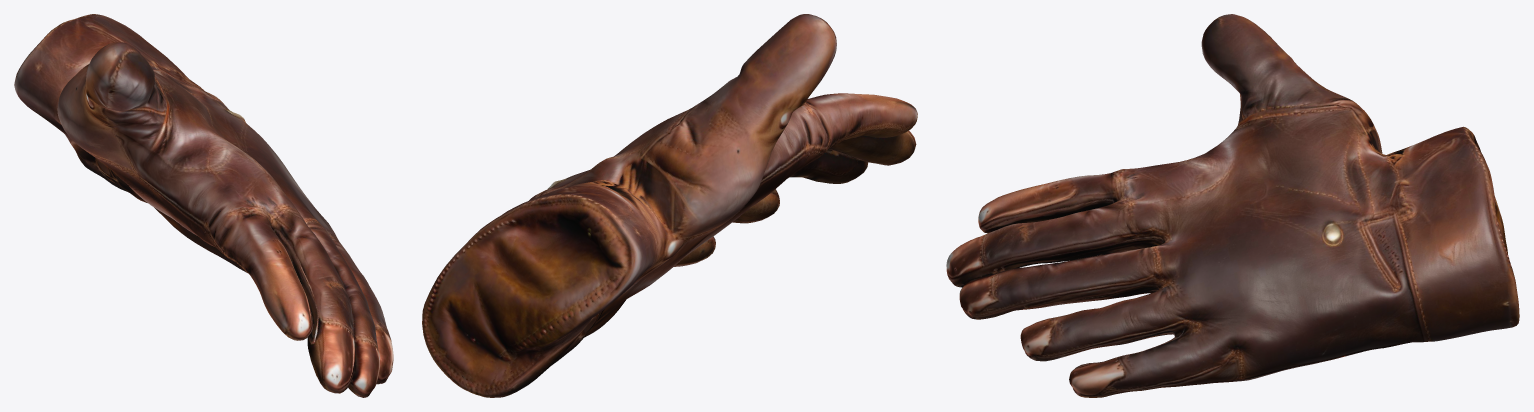
3 renders of one model, left to right at view 1: azimuth 30°, elevation 25°; view 2: azimuth 150°, elevation 25°; view 3: azimuth 270°, elevation 25°, orthographic. The views are drawn at different scales.
Parts seen in each view (by area): view 1: Mesh1.0; view 2: Mesh1.0; view 3: Mesh1.0.
Boxes of the visible parts, x1,y1,x2,y2 form: Mesh1.0: (14,14,393,397); Mesh1.0: (422,14,917,397); Mesh1.0: (946,14,1519,397).
Bounding box in the file's own units: 91.97 × 116 × 200.
Materials: 1 (1 with a texture image).
